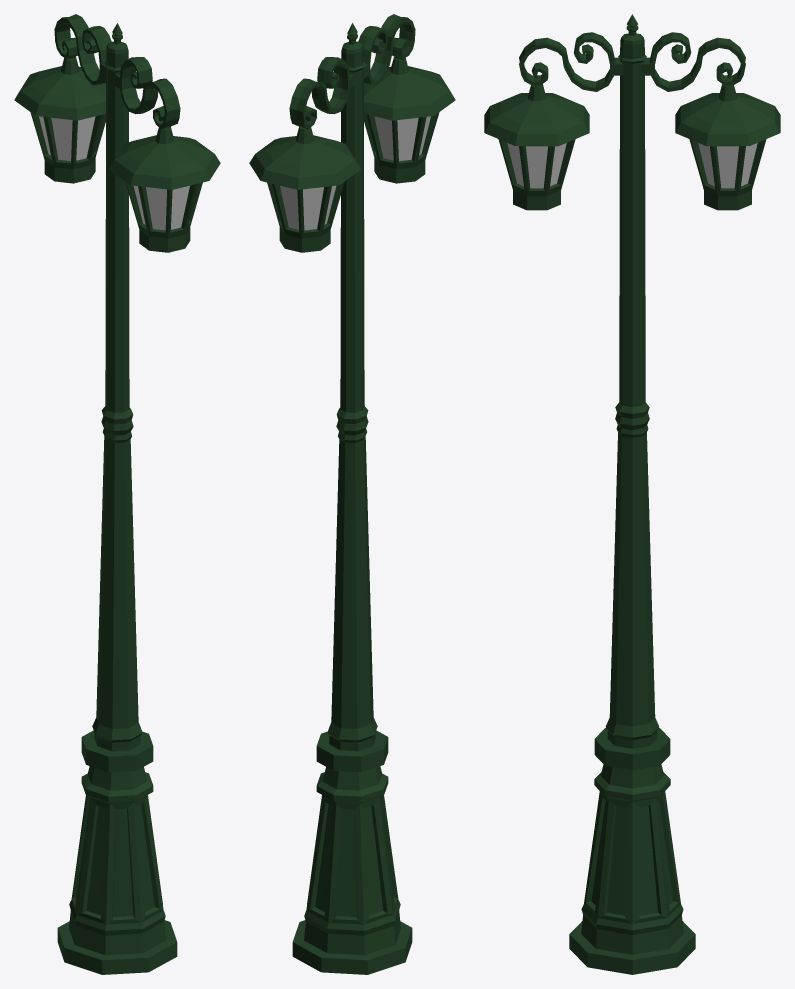
Rendered from Streetlight_Double.glb.
3 renders of one model, left to right at view 1: azimuth 30°, elevation 25°; view 2: azimuth 150°, elevation 25°; view 3: azimuth 270°, elevation 25°, orthographic.
Parts seen in each view (by area): view 1: Streetlight_Double.obj; view 2: Streetlight_Double.obj; view 3: Streetlight_Double.obj.
Boxes of the visible parts, x1,y1,x2,y2 form: Streetlight_Double.obj: (14,14,220,974); Streetlight_Double.obj: (249,14,455,974); Streetlight_Double.obj: (484,14,780,974).
Bounding box in the file's own units: 0.1317 × 1.1 × 0.3157.
